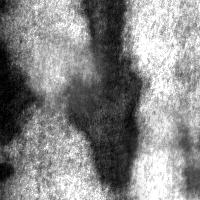patches: (62, 1, 144, 189), (106, 99, 200, 200), (21, 26, 113, 118), (131, 109, 200, 200), (1, 42, 41, 146)
